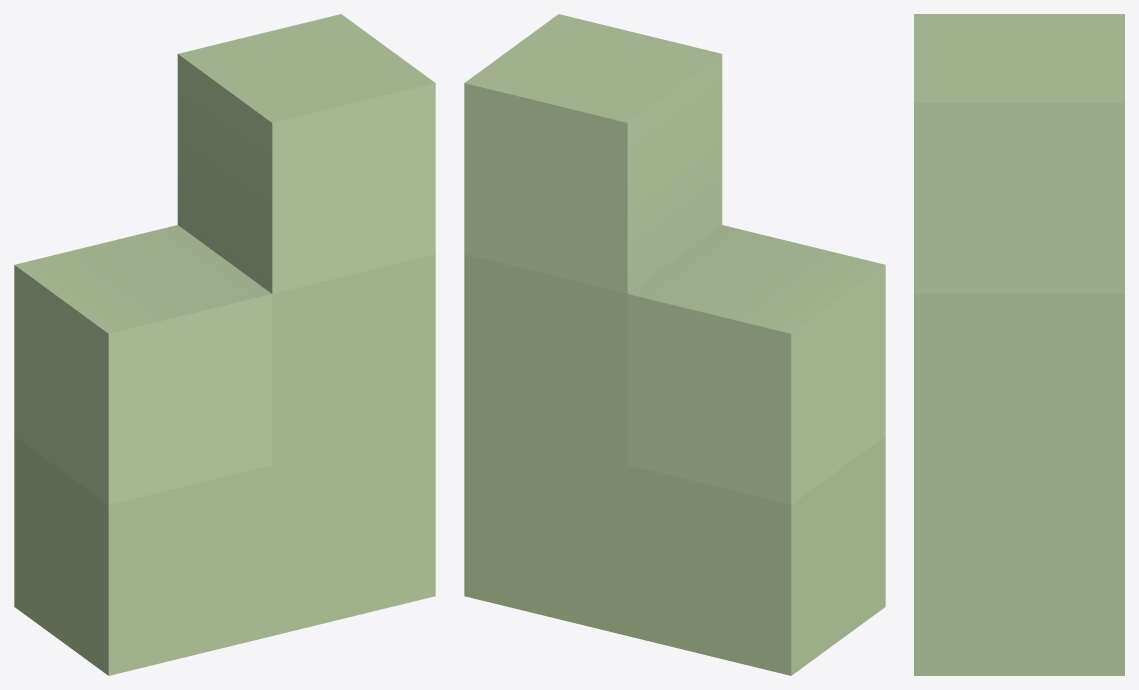
The model's file is decor_tuft_b.glb.
3 views of the same model, side by side, from view 1: azimuth 30°, elevation 25°; view 2: azimuth 150°, elevation 25°; view 3: azimuth 270°, elevation 25° (orthographic). The views are drawn at different scales.
Visible parts, largest first — view 1: decor_tuft_b; view 2: decor_tuft_b; view 3: decor_tuft_b.
Boxes of the visible parts, <box> form: decor_tuft_b: <box>14,14,435,675</box>; decor_tuft_b: <box>464,14,885,675</box>; decor_tuft_b: <box>914,14,1124,675</box>.
Bounding box in the file's own units: 0.125 × 0.1875 × 0.0625.
